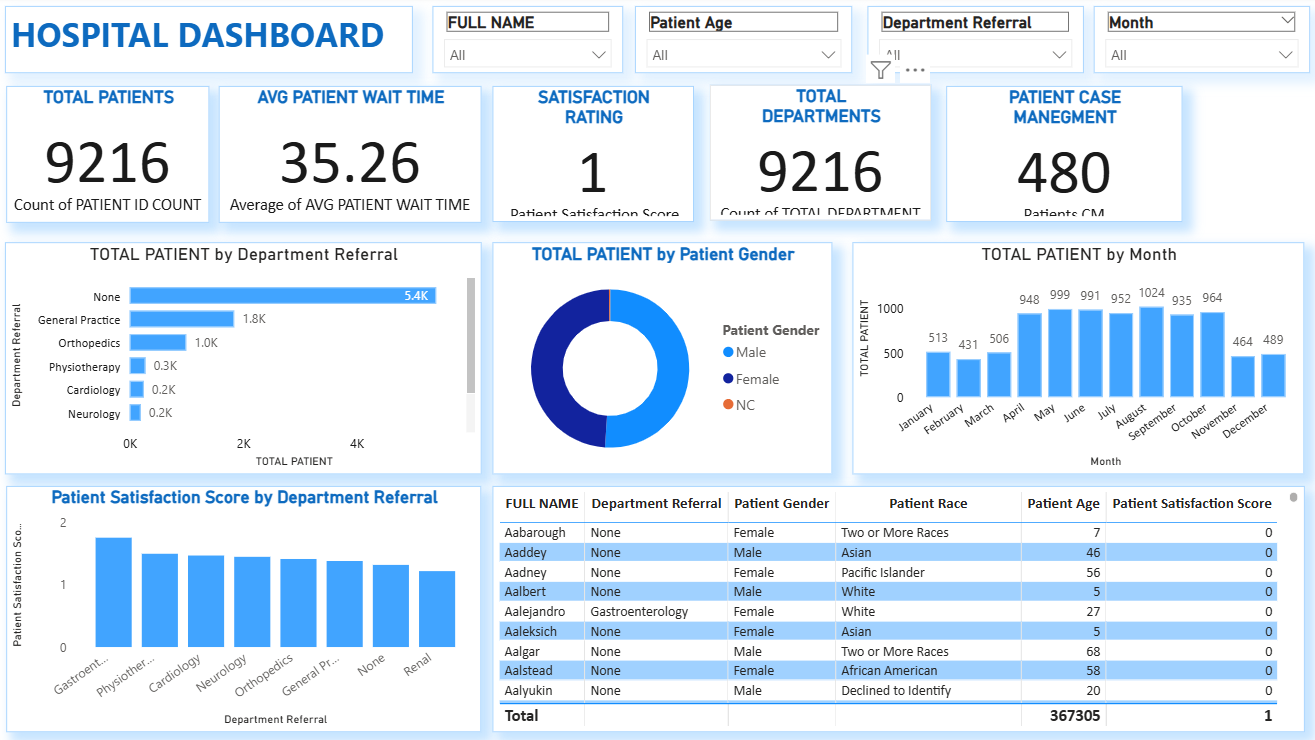

This screenshot's page, from the dashboard's own definition file:
{"tool":"powerbi","page":{"name":"HOSPITAL DASHBOARD","canvas":[1280,720],"ordinal":0},"visuals":[{"type":"textbox","box":[9.6,9.6,393.8,64.5],"z":0},{"type":"slicer","fields":{"Values":["Hospital ER_Data.FULL NAME"]},"box":[422.6,9.6,183.9,64.5],"z":1000},{"type":"slicer","fields":{"Values":["Hospital ER_Data.Patient Age"]},"box":[617.5,9.6,209.9,64.5],"z":2000},{"type":"slicer","fields":{"Values":["Hospital ER_Data.Department Referral"]},"box":[842.5,9.6,208.6,64.5],"z":3000},{"type":"slicer","fields":{"Values":["Hospital ER_Data.Date .Variation.Date Hierarchy.Month"]},"box":[1060.7,9.6,208.6,64.5],"z":4000},{"type":"card","title":"TOTAL PATIENTS","fields":{"Values":["Hospital ER_Data.PATIENT ID COUNT"]},"box":[11,86.4,196.2,131.7],"z":5000},{"type":"card","title":"AVG PATIENT WAIT TIME","fields":{"Values":["Hospital ER_Data.AVG PATIENT WAIT TIME"]},"box":[215.4,86.4,253.9,131.7],"z":6000},{"type":"card","title":"SATISFACTION RATING","fields":{"Values":["Hospital ER_Data.Patient Satisfaction Score"]},"box":[480.2,86.9,194.2,131.5],"z":7000},{"type":"card","title":"TOTAL DEPARTMENTS","fields":{"Values":["Hospital ER_Data.TOTAL DEPARTMENT"]},"box":[690.1,85.7,213.5,131.5],"z":8000},{"type":"card","title":"PATIENT CASE MANEGMENT","fields":{"Values":["Hospital ER_Data.Patients CM"]},"box":[918.1,86.9,228,131.5],"z":9000},{"type":"barChart","fields":{"Y":["Hospital ER_Data.TOTAL PATIENID"],"Category":["Hospital ER_Data.Department Referral"]},"box":[9.6,237.4,459.7,223.7],"z":10000},{"type":"donutChart","fields":{"Y":["Hospital ER_Data.TOTAL PATIENID"],"Category":["Hospital ER_Data.Patient Gender"]},"box":[480.3,237.4,328,223.7],"z":11000},{"type":"clusteredColumnChart","fields":{"Y":["Hospital ER_Data.TOTAL PATIENID"],"Category":["Hospital ER_Data.Date .Variation.Date Hierarchy.Month"]},"box":[827.4,237.4,436.4,223.7],"z":12000},{"type":"clusteredColumnChart","fields":{"Y":["Hospital ER_Data.Patient Satisfaction Score"],"Category":["Hospital ER_Data.Department Referral"]},"box":[10.9,472.9,458.4,237.7],"z":13000},{"type":"tableEx","fields":{"Values":["Hospital ER_Data.FULL NAME","Hospital ER_Data.Department Referral","Hospital ER_Data.Patient Gender","Hospital ER_Data.Patient Race","Hospital ER_Data.Patient Age","Hospital ER_Data.Patient Satisfaction Score"]},"box":[480.2,472.9,784.2,237.7],"z":14000}]}

Visuals, with their boxes in screenshot pixels (x1, y1, x2, y2), scaled from the page's 1280x720 canvas onto the 1315x740 screenshot:
textbox: rect(10, 10, 414, 76)
slicer - Hospital ER_Data.FULL NAME: rect(434, 10, 623, 76)
slicer - Hospital ER_Data.Patient Age: rect(634, 10, 850, 76)
slicer - Hospital ER_Data.Department Referral: rect(866, 10, 1080, 76)
slicer - Hospital ER_Data.Date .Variation.Date Hierarchy.Month: rect(1090, 10, 1304, 76)
"TOTAL PATIENTS" card: rect(11, 89, 213, 224)
"AVG PATIENT WAIT TIME" card: rect(221, 89, 482, 224)
"SATISFACTION RATING" card: rect(493, 89, 693, 224)
"TOTAL DEPARTMENTS" card: rect(709, 88, 928, 223)
"PATIENT CASE MANEGMENT" card: rect(943, 89, 1177, 224)
barChart - Hospital ER_Data.TOTAL PATIENID x Hospital ER_Data.Department Referral: rect(10, 244, 482, 474)
donutChart - Hospital ER_Data.TOTAL PATIENID x Hospital ER_Data.Patient Gender: rect(493, 244, 830, 474)
clusteredColumnChart - Hospital ER_Data.TOTAL PATIENID x Hospital ER_Data.Date .Variation.Date Hierarchy.Month: rect(850, 244, 1298, 474)
clusteredColumnChart - Hospital ER_Data.Patient Satisfaction Score x Hospital ER_Data.Department Referral: rect(11, 486, 482, 730)
tableEx - Hospital ER_Data.FULL NAME x Hospital ER_Data.Department Referral: rect(493, 486, 1299, 730)
